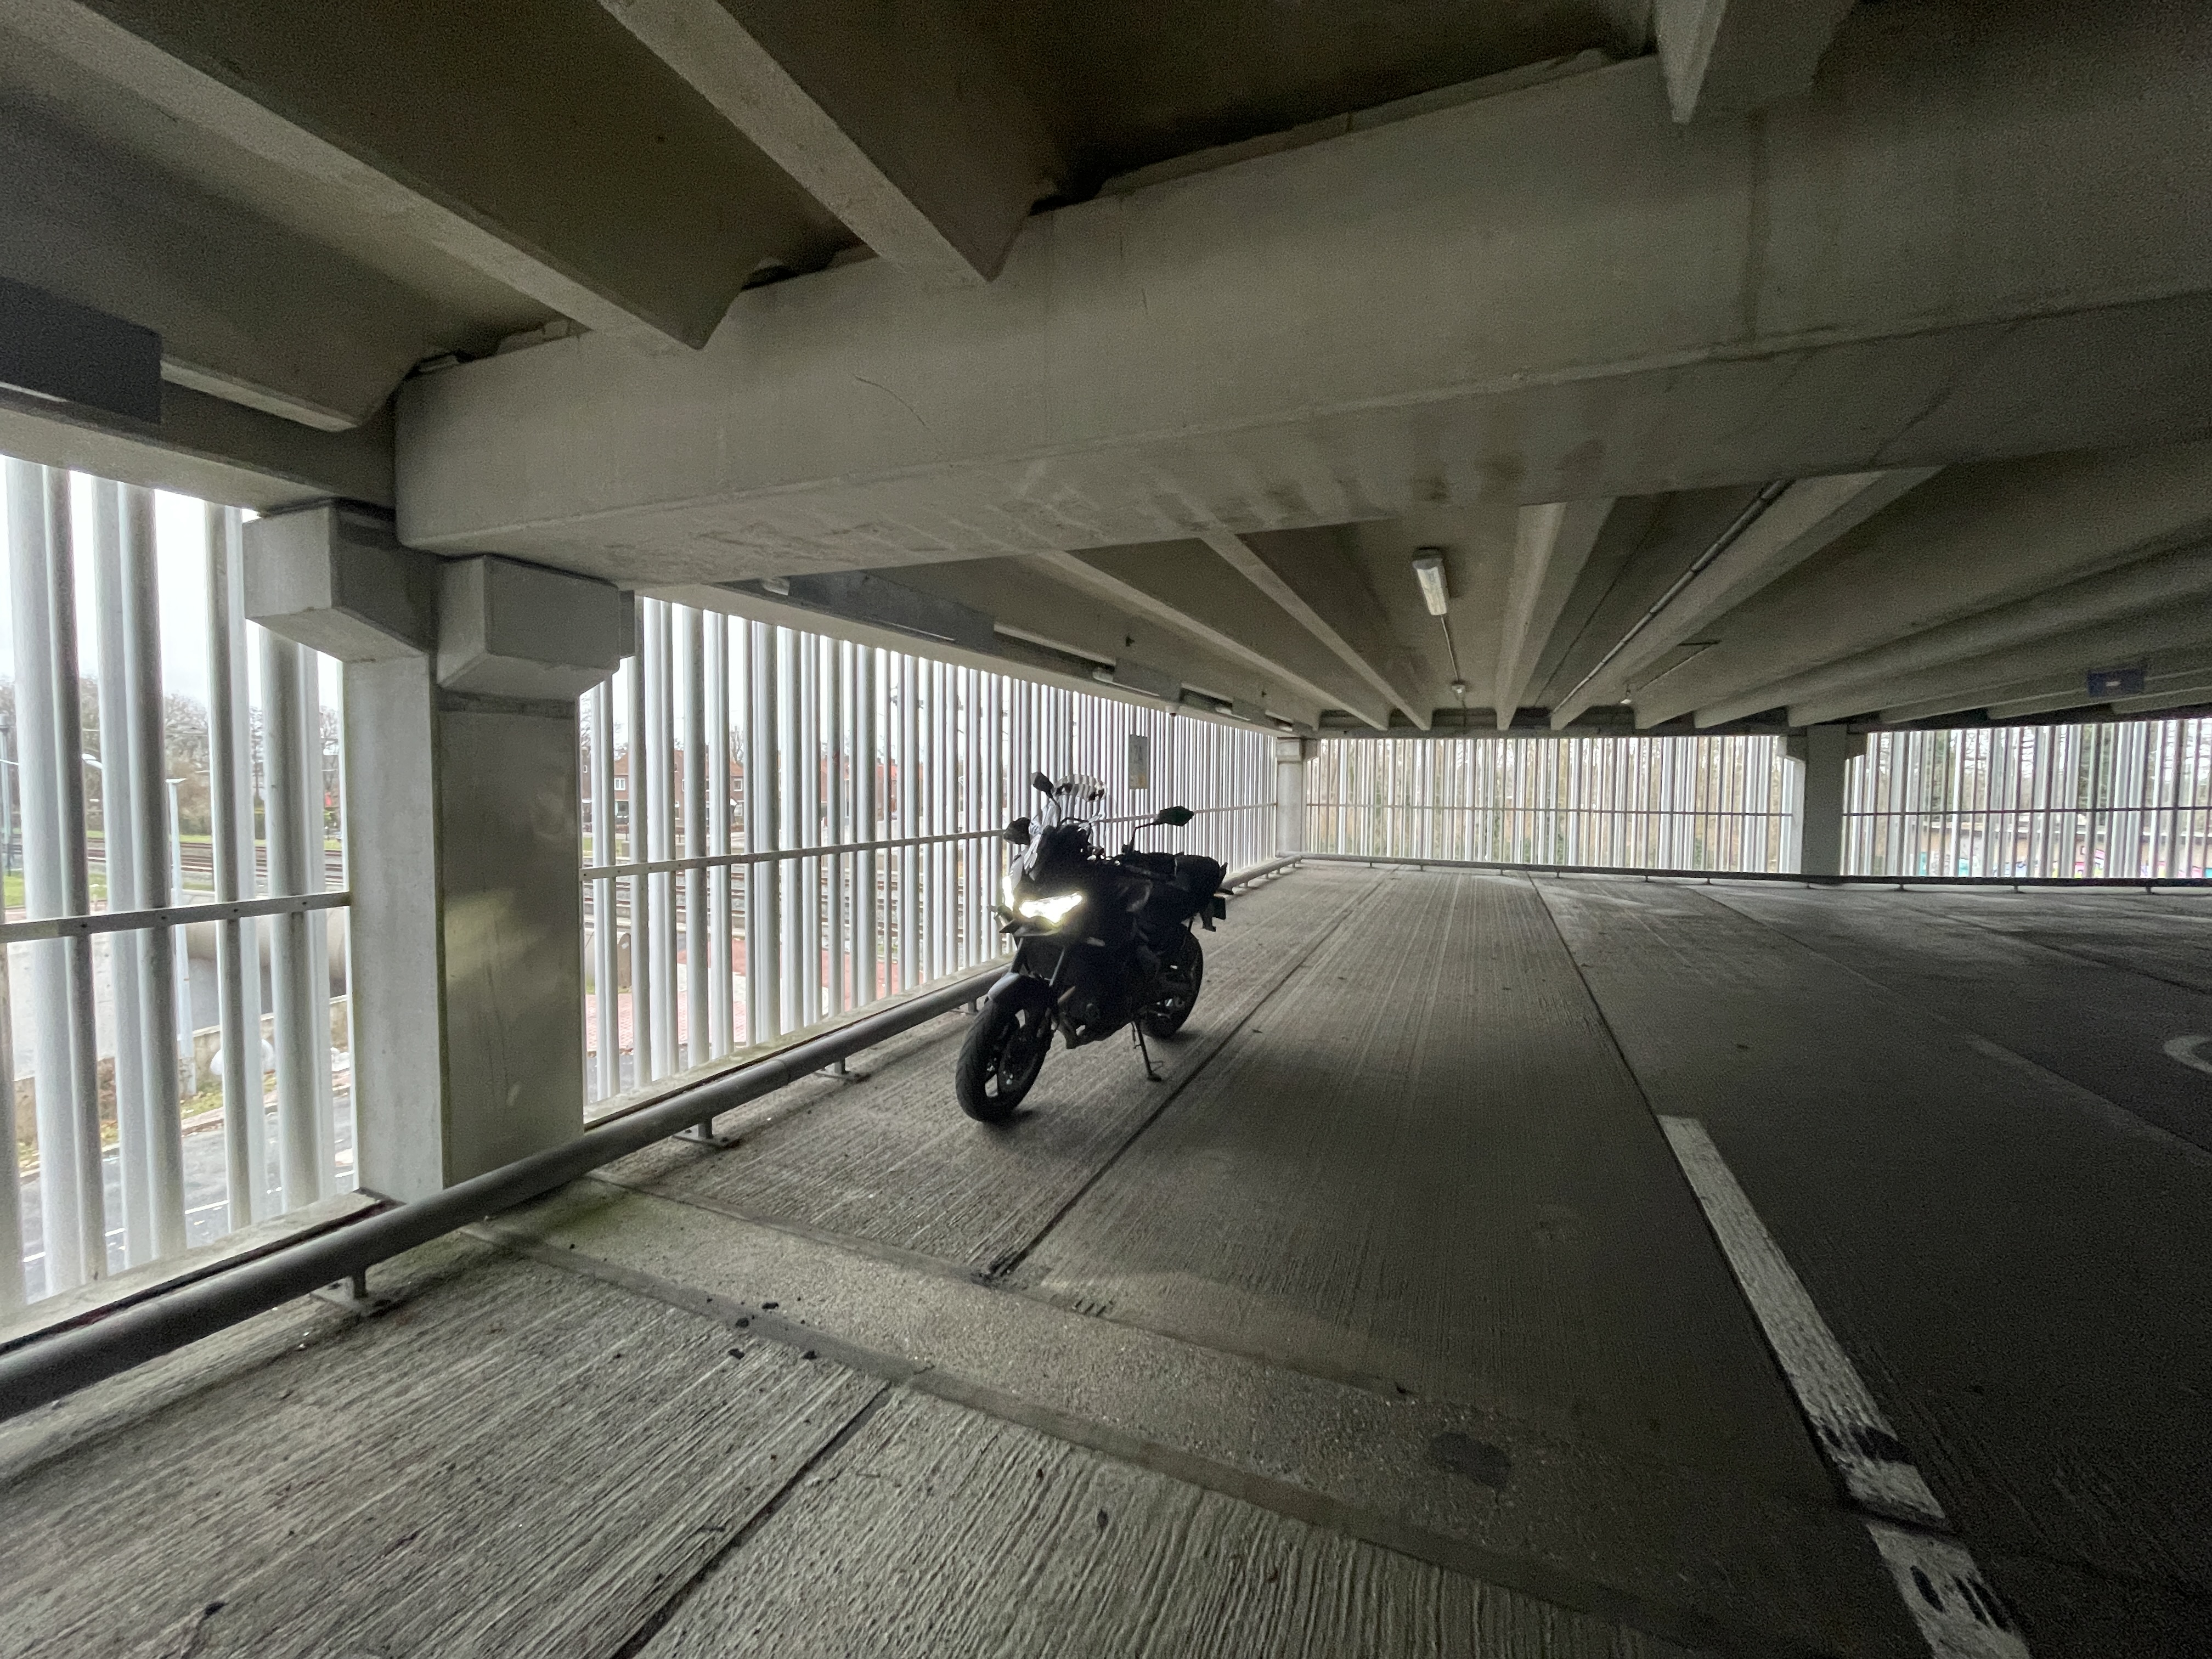motorcycle: (951, 767, 1228, 1133)
